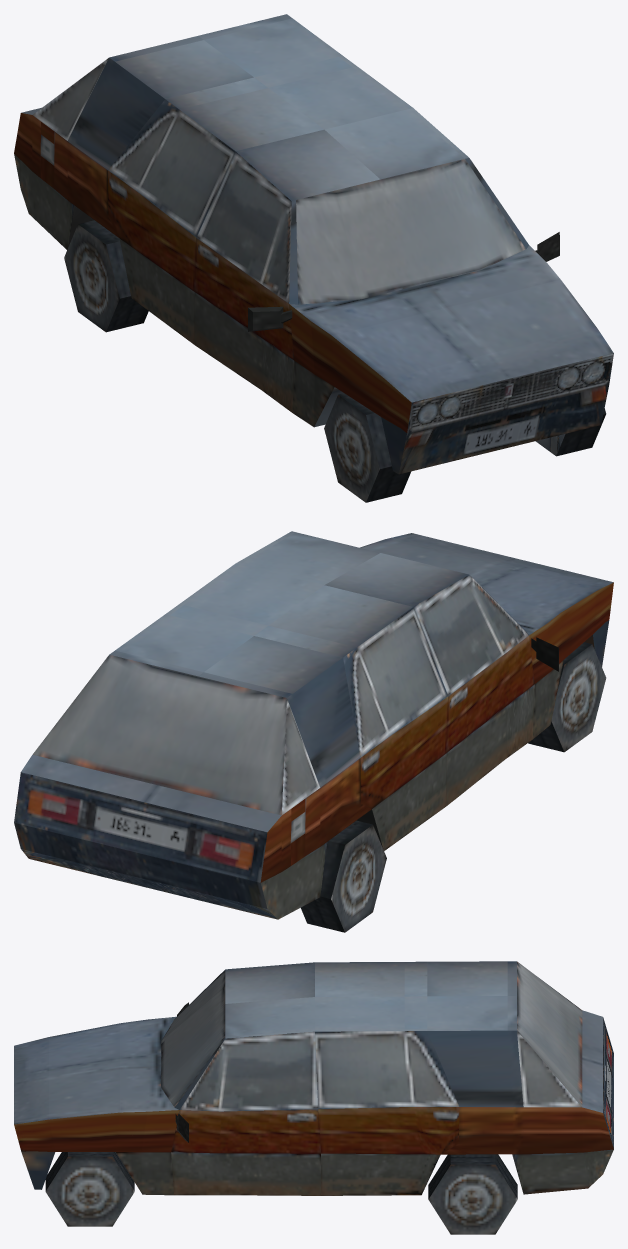
The model's file is RonnerBil.fbx.
3 views of the same model, one above another, from view 1: azimuth 30°, elevation 25°; view 2: azimuth 150°, elevation 25°; view 3: azimuth 270°, elevation 25° (orthographic). The views are drawn at different scales.
Parts seen in each view (by area): view 1: Car; view 2: Car; view 3: Car, Door.
Boxes of the visible parts, bbox=[...] form: Car: bbox=[14, 14, 613, 502]; Car: bbox=[14, 531, 613, 932]; Car: bbox=[14, 961, 613, 1234]; Door: bbox=[171, 1031, 320, 1195].
Size of the model in its own units: 221 by 158 by 462.
Materials: 2 (2 with a texture image).
